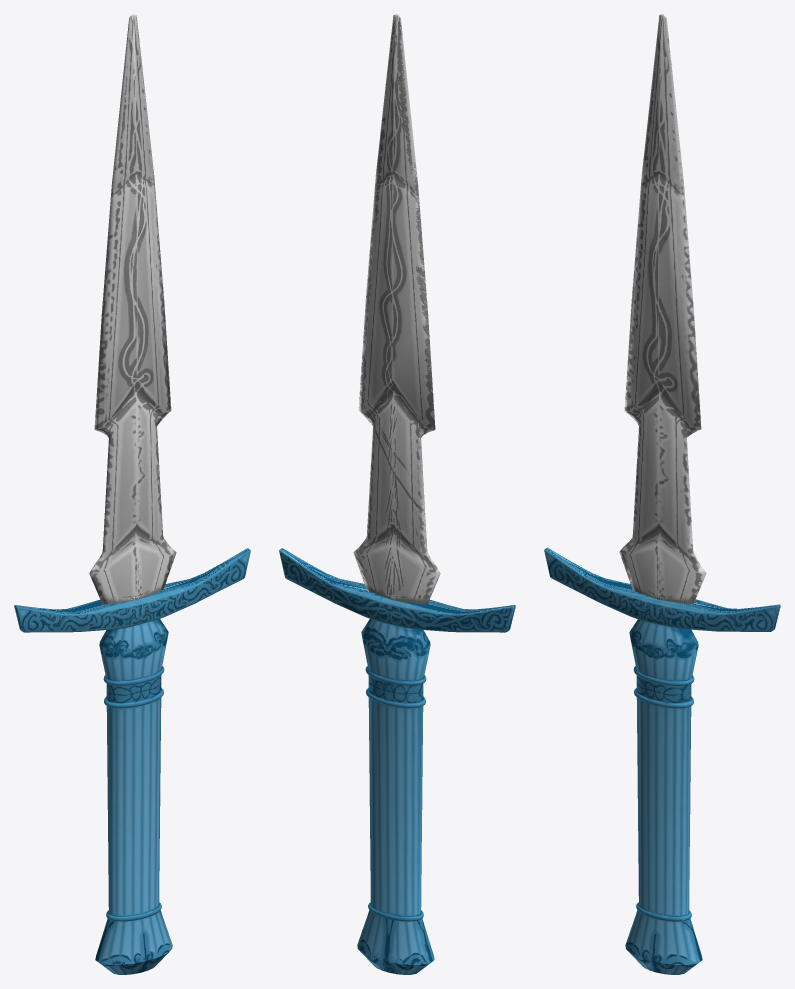
The model's file is Wind Dagger.fbx.
The picture shows the model from 3 angles, left to right: view 1: azimuth 30°, elevation 25°; view 2: azimuth 150°, elevation 25°; view 3: azimuth 330°, elevation 25°; orthographic projection.
Parts seen in each view (by area): view 1: Plane003; view 2: Plane003; view 3: Plane003.
Part boxes in pixels (bbox=[...]): Plane003: bbox=[14, 14, 250, 974]; Plane003: bbox=[279, 14, 515, 974]; Plane003: bbox=[544, 14, 780, 974].
Bounding box in the file's own units: 11.86 × 46.2 × 2.07.
